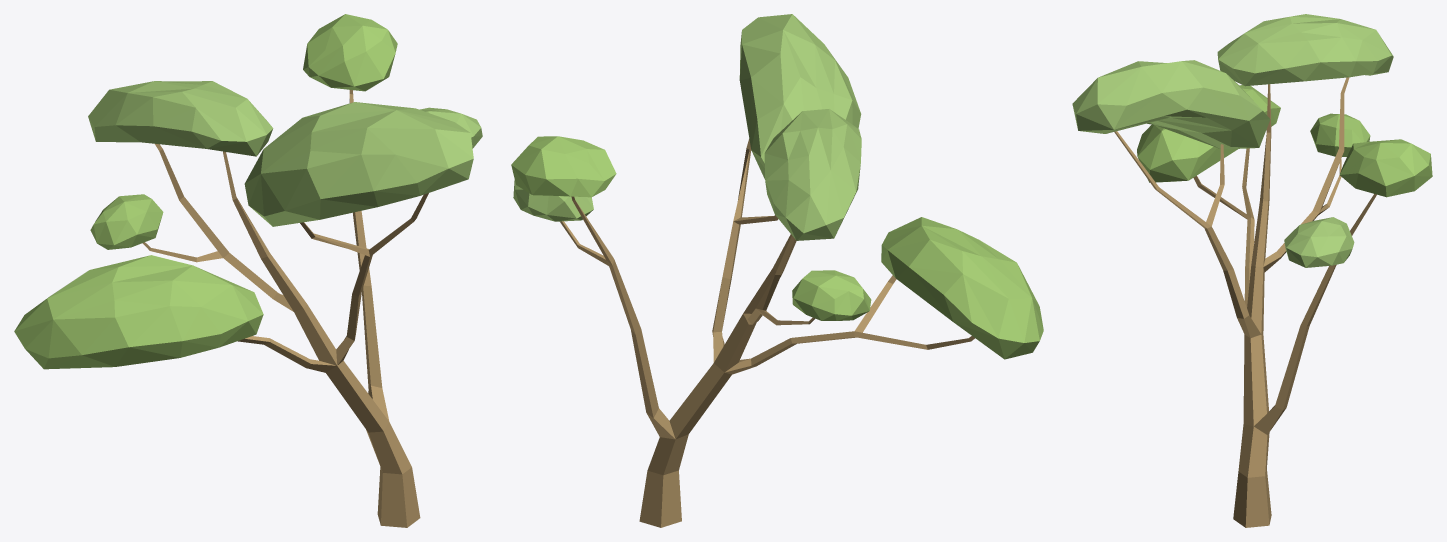
Rendered from Acacia_Tree_l_03_LOD.fbx.
3 renders of one model, left to right at view 1: azimuth 30°, elevation 25°; view 2: azimuth 150°, elevation 25°; view 3: azimuth 270°, elevation 25°, orthographic. The views are drawn at different scales.
Parts seen in each view (by area): view 1: Acacia_Tree_l_03_LOD0; view 2: Acacia_Tree_l_03_LOD0; view 3: Acacia_Tree_l_03_LOD0.
Part boxes in pixels (x1,y1,x2,y2): Acacia_Tree_l_03_LOD0: (14,14,482,527); Acacia_Tree_l_03_LOD0: (511,14,1043,527); Acacia_Tree_l_03_LOD0: (1072,14,1432,527).
Size of what is drawn, in the model's own units: 1279 by 1161 by 891.
